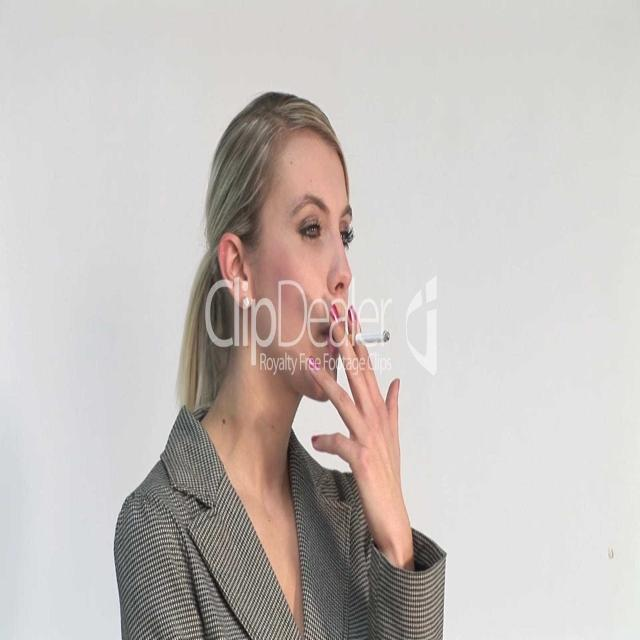Smooking: (358, 307, 392, 359)
